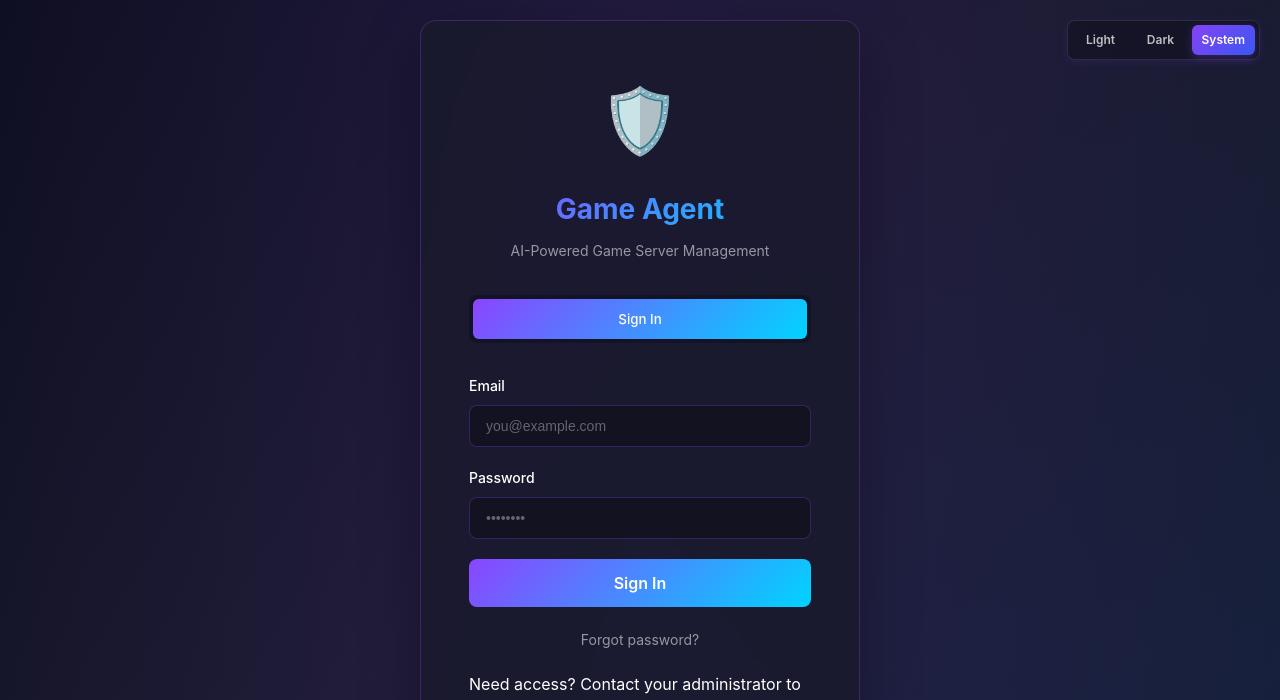
Test case: CognitoAuth - handleSignIn error handling › handles network error when storing tokens
Type "test@example.com" into the field with placeholder "you@example.com". click: (640, 426)
box: [469,405,811,447]
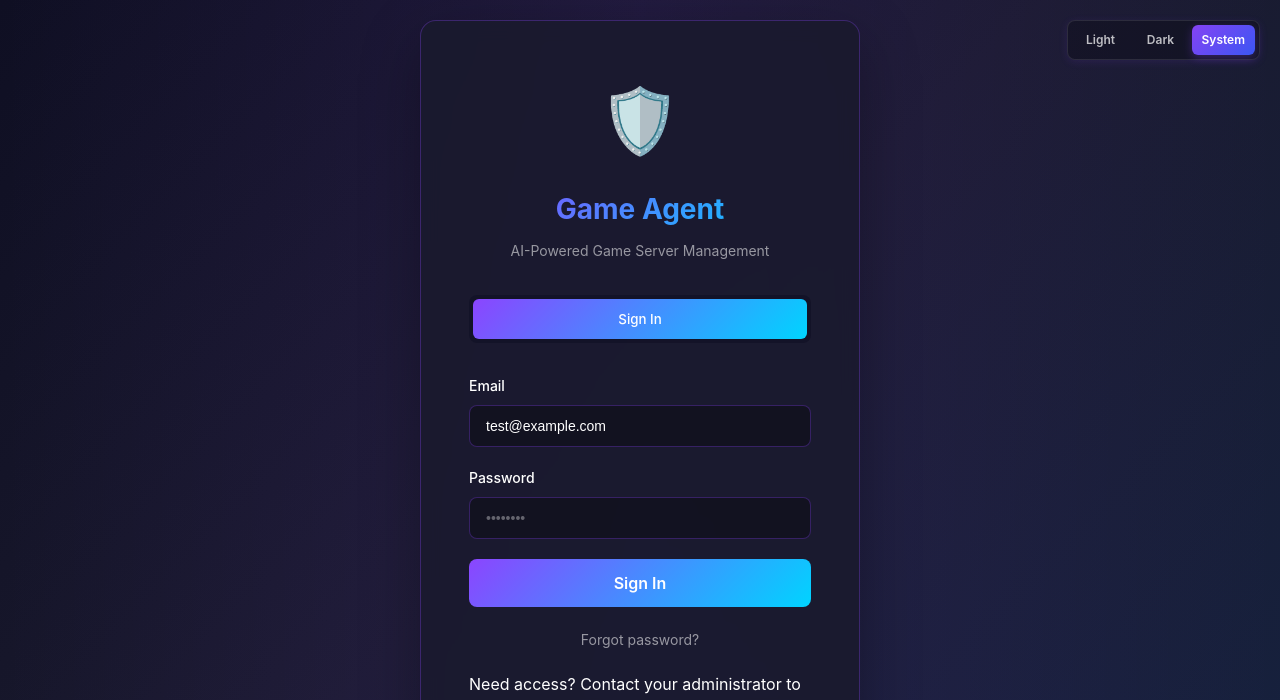
Type "password123" into the password field with placeholder "••••••••". click: (640, 518)
box: [469,497,811,539]
(page scrolled)
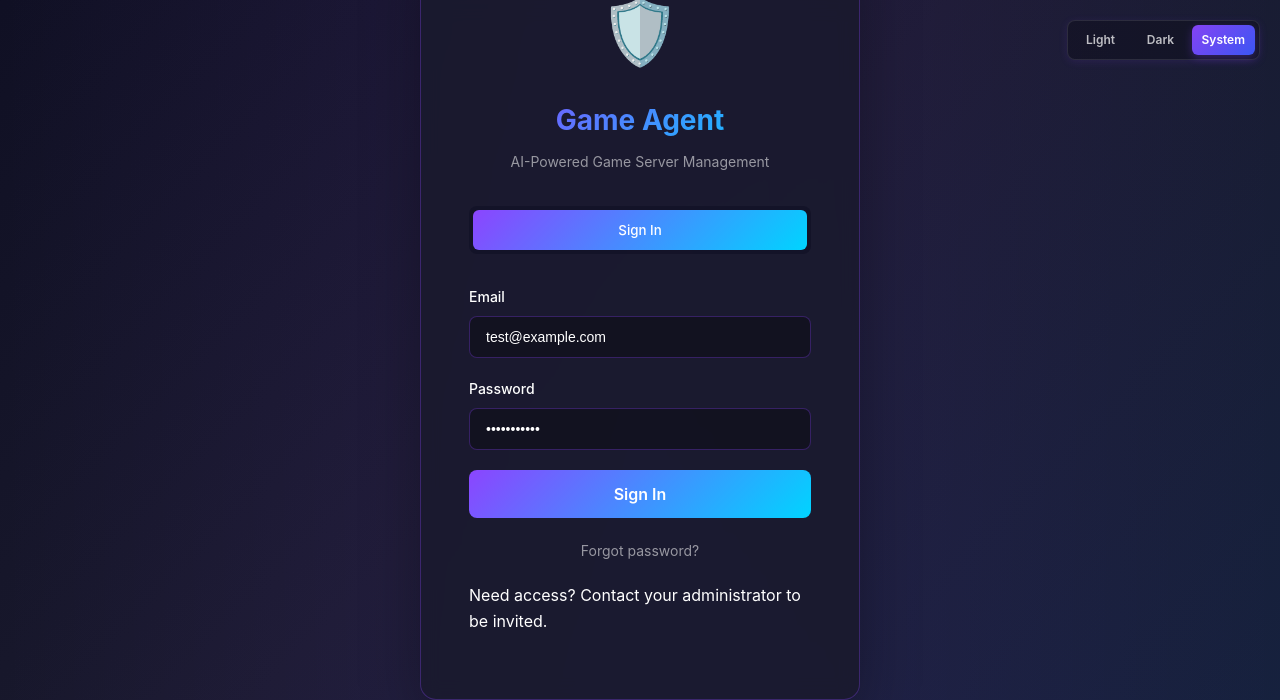
Submit the form with placeholder "you@example.com", box [469,286,811,635]
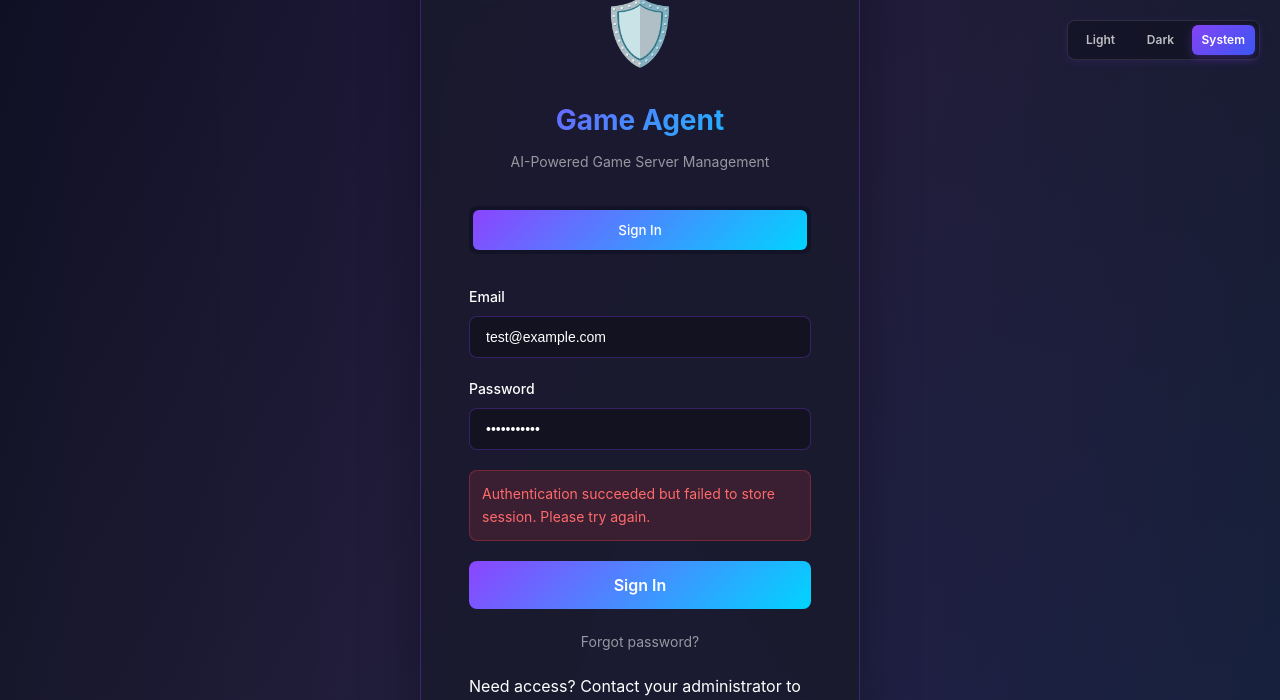
Now the text "failed to store session" is shown, box [482,485,775,525]
